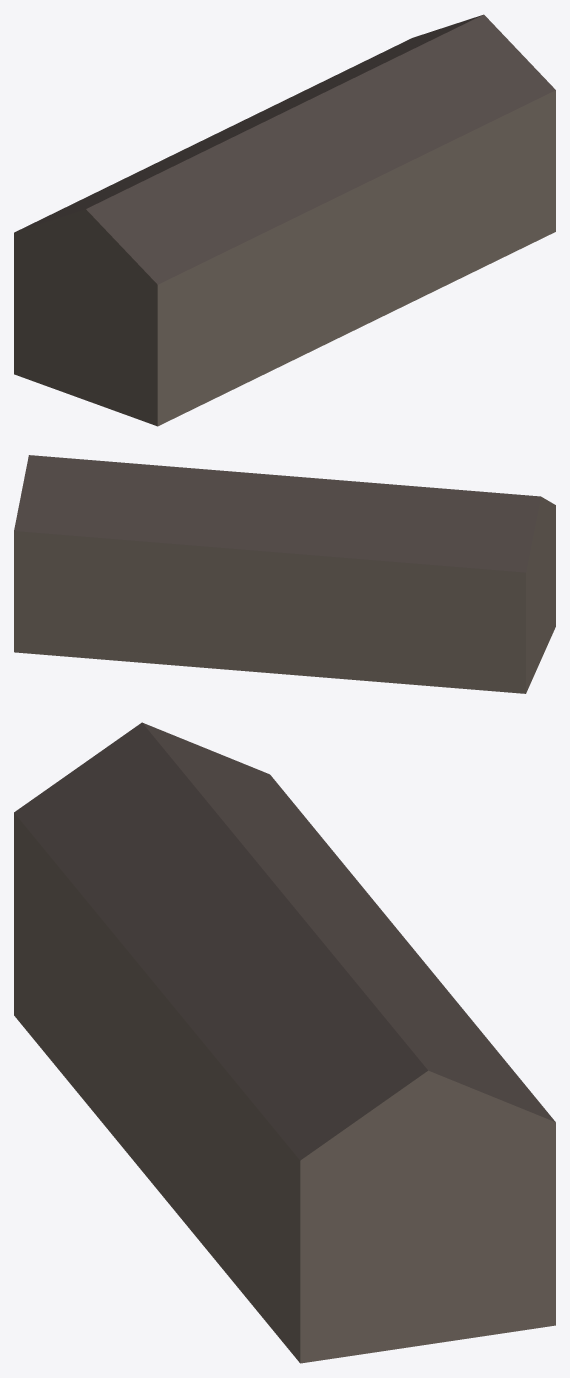
3 renders of one model, top to bottom at view 1: azimuth 30°, elevation 25°; view 2: azimuth 150°, elevation 25°; view 3: azimuth 270°, elevation 25°, orthographic. The views are drawn at different scales.
Visible parts, largest first — view 1: HP-w1076065853; view 2: HP-w1076065853; view 3: HP-w1076065853.
Boxes of the visible parts, x1,y1,x2,y2 form: HP-w1076065853: [14, 14, 555, 426]; HP-w1076065853: [14, 455, 555, 693]; HP-w1076065853: [14, 722, 555, 1363].
Bounding box in the file's own units: 24.49 × 8.1 × 14.52.
